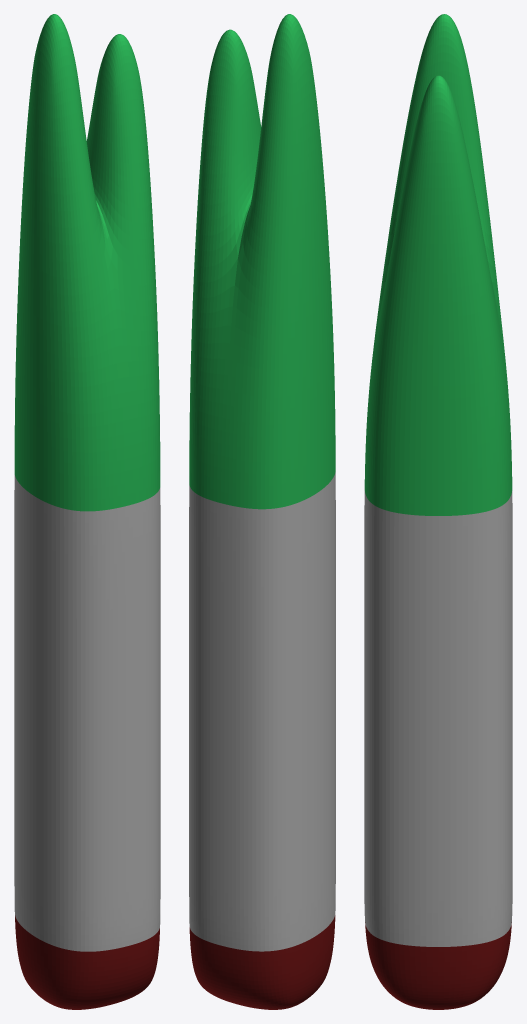
Rendered from Spring Onion.fbx.
The picture shows the model from 3 angles, left to right: view 1: azimuth 30°, elevation 25°; view 2: azimuth 150°, elevation 25°; view 3: azimuth 270°, elevation 25°; orthographic projection. The views are drawn at different scales.
Parts seen in each view (by area): view 1: Cube; view 2: Cube; view 3: Cube.
Boxes of the visible parts, x1,y1,x2,y2 form: Cube: [14, 14, 160, 1009]; Cube: [189, 14, 335, 1009]; Cube: [364, 14, 512, 1009].
Bounding box in the file's own units: 219 × 1792 × 249.
